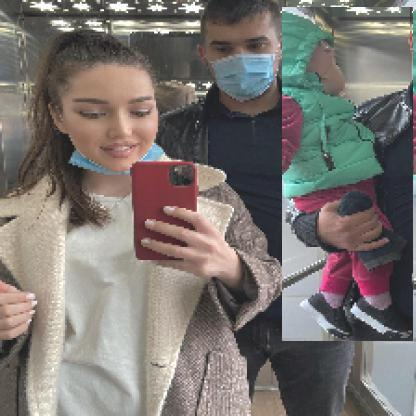child: (283, 8, 415, 343)
